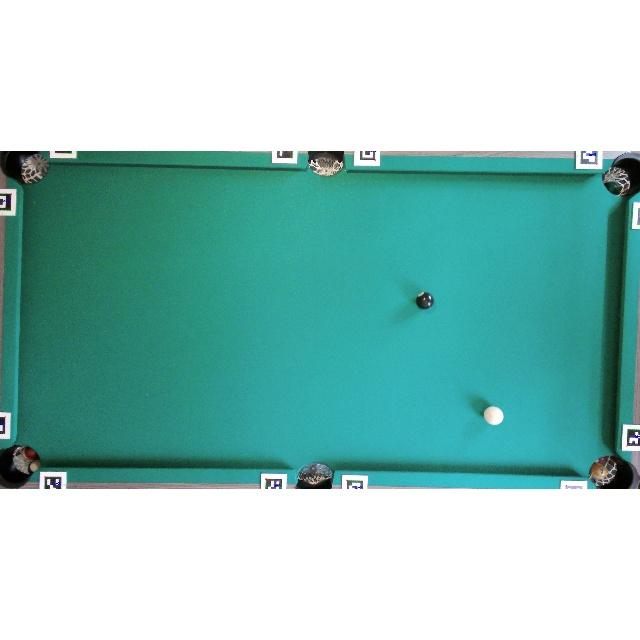cue ball: (482, 404, 504, 426)
other: (415, 290, 435, 309)
